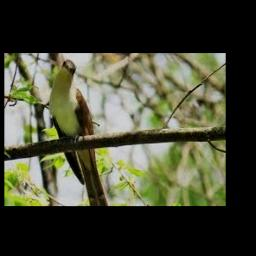Cuckoo: (49, 60, 109, 206)
